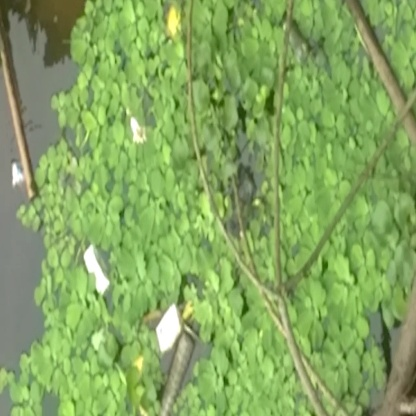branch: (338, 10, 416, 141)
